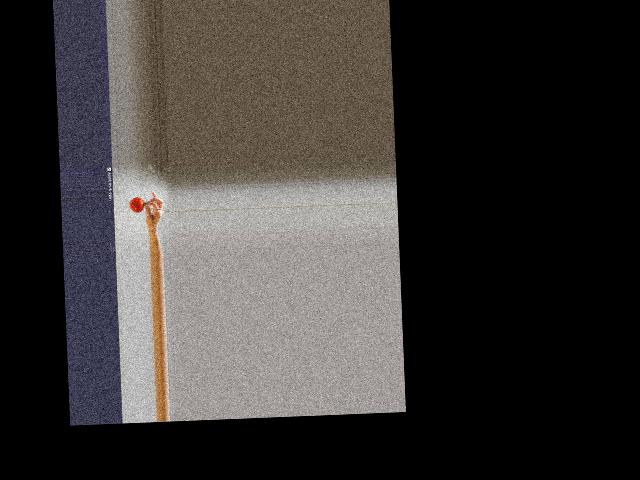tomato: (128, 197, 143, 213)
